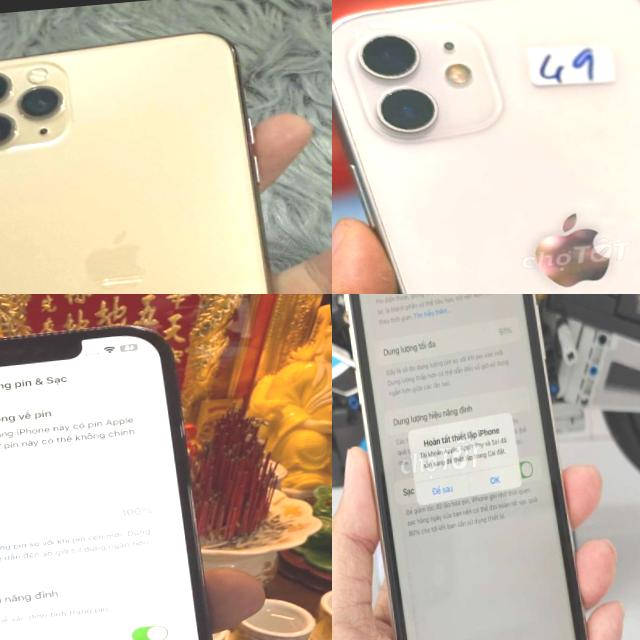gen_11: (0, 16, 328, 294), (347, 294, 583, 640)
gen_12_13: (332, 0, 640, 294), (0, 319, 243, 640)
